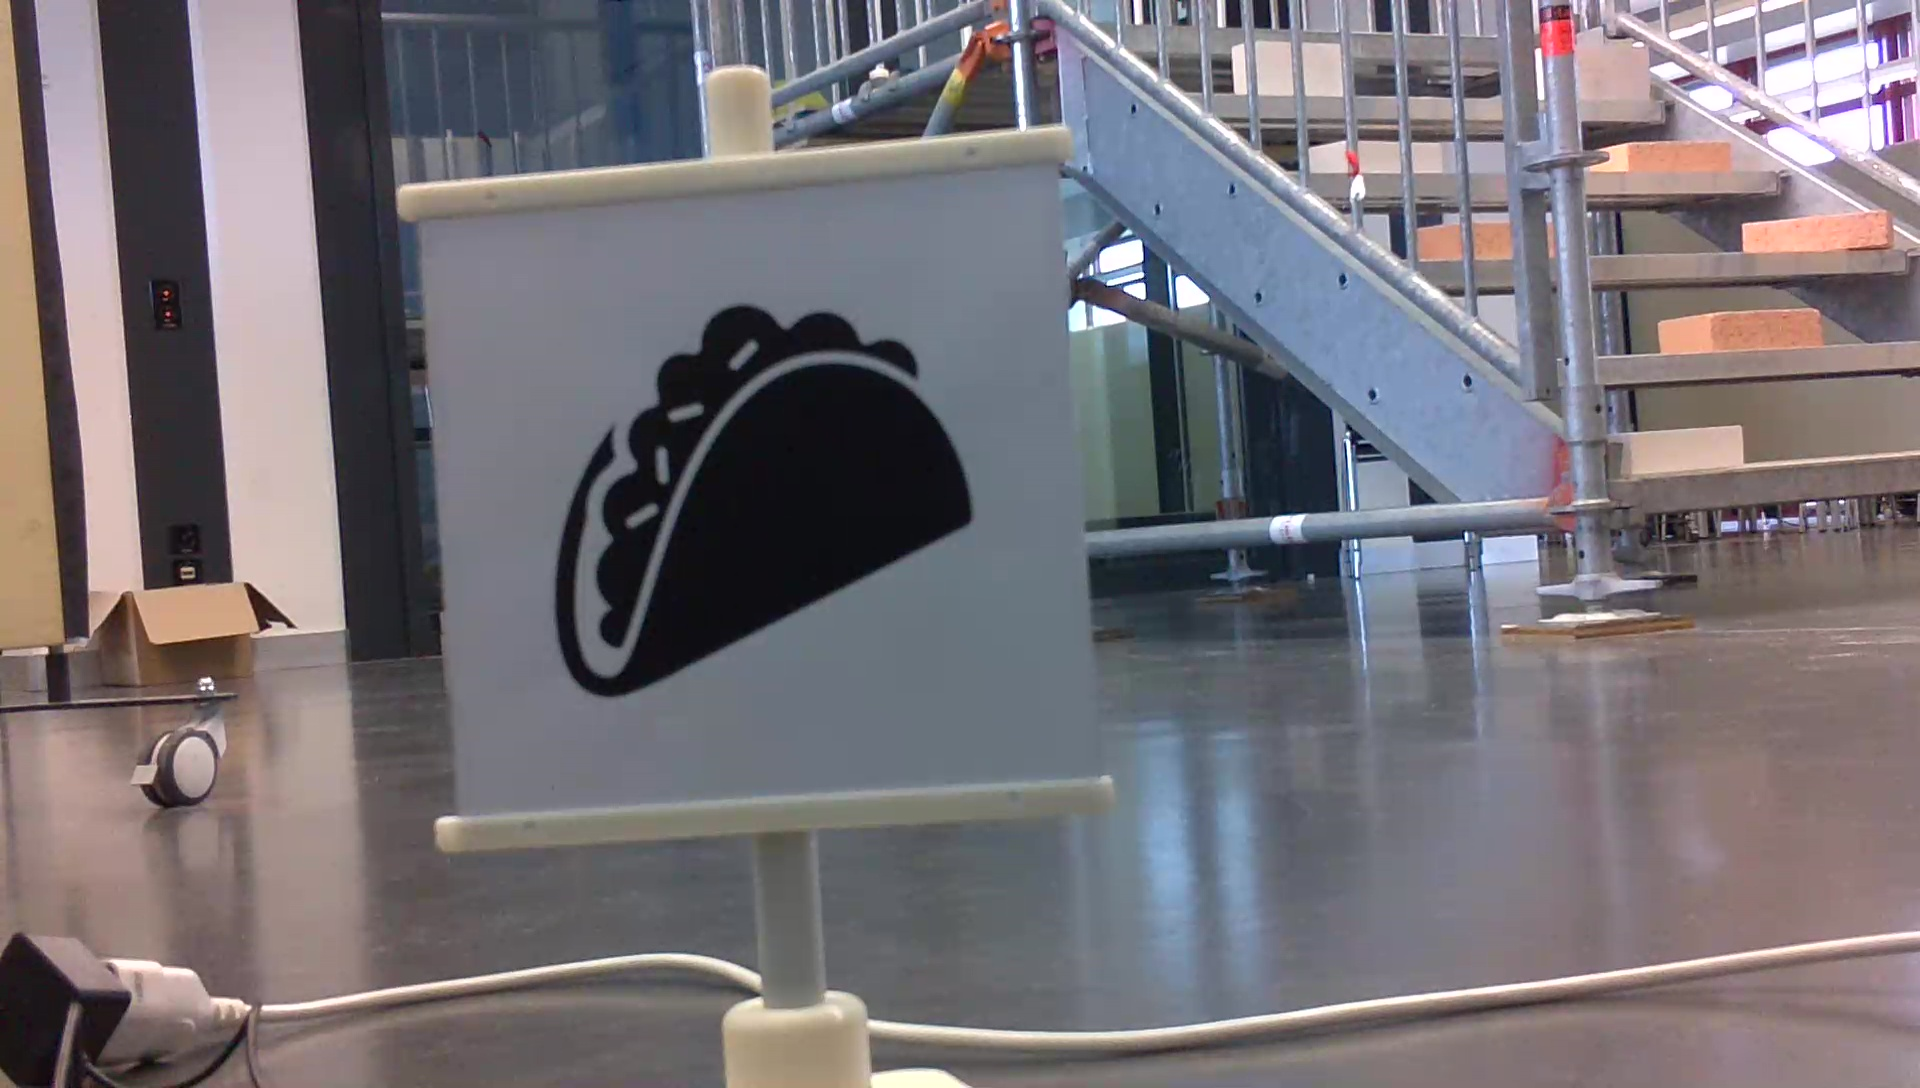brick: (1742, 208, 1886, 249), (1658, 313, 1816, 349), (1625, 429, 1739, 471), (1575, 41, 1646, 100), (1602, 142, 1730, 173)
taco: (538, 293, 986, 708)
